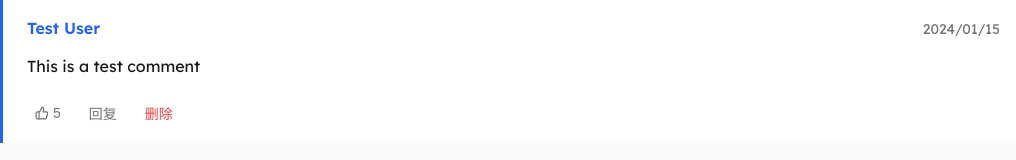
Scenario: PostCommentItem › Like Functionality › should update like count after successful like toggle
Click the button titled "标记为有用" at [48, 113], box left=27, top=99, right=69, bottom=127
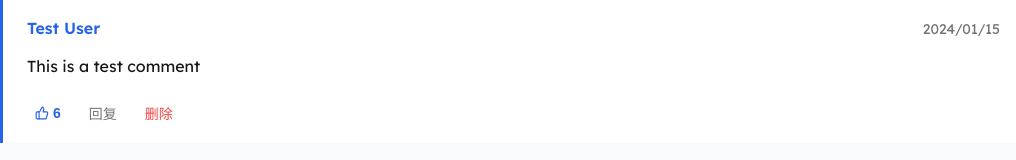
Now the text "6" is shown, box left=53, top=105, right=61, bottom=121
